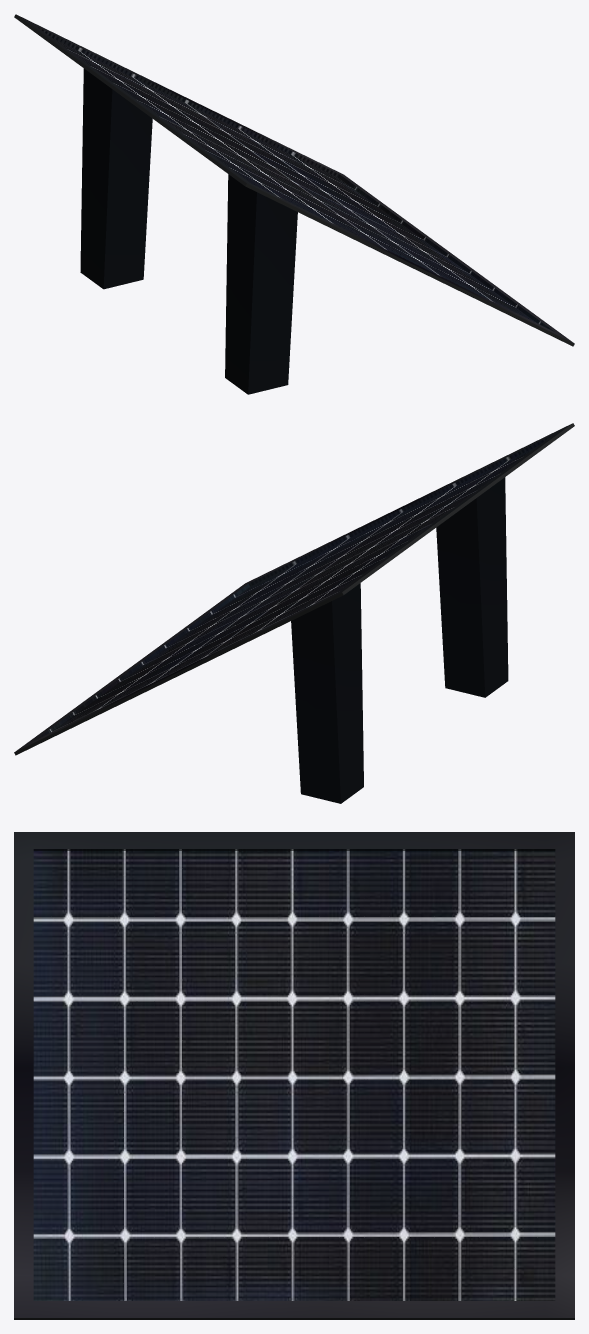
File: solar panel .fbx
3 views of the same model, one above another, from view 1: azimuth 30°, elevation 25°; view 2: azimuth 150°, elevation 25°; view 3: azimuth 270°, elevation 25° (orthographic). The views are drawn at different scales.
Parts seen in each view (by area): view 1: Plane; view 2: Plane; view 3: Plane.
Boxes of the visible parts, left/top/right/bottom form: Plane: left=14, top=14, right=574, bottom=394; Plane: left=14, top=423, right=574, bottom=803; Plane: left=14, top=832, right=574, bottom=1319.
Bounding box in the file's own units: 1647 × 1160 × 2000.
